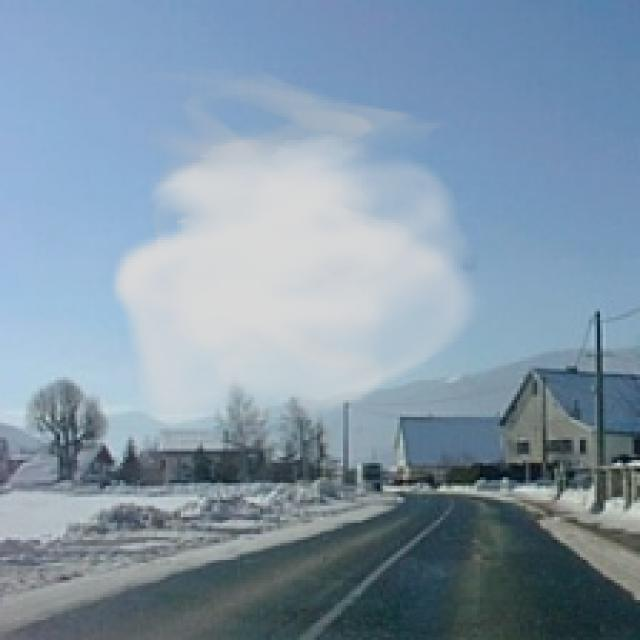smoke: (109, 63, 488, 434)
